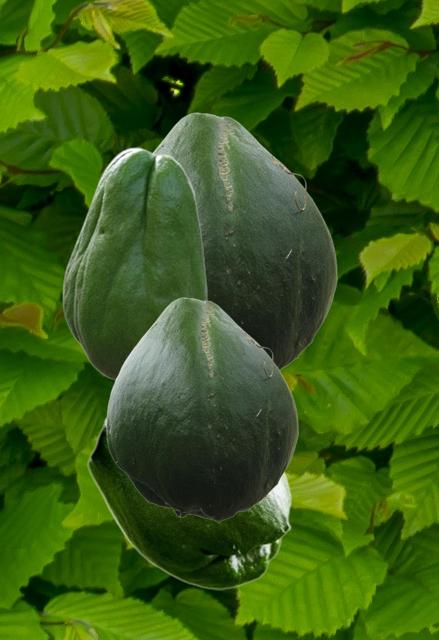sayote: (153, 112, 336, 370), (106, 297, 297, 522), (87, 416, 291, 589), (62, 147, 207, 381)
